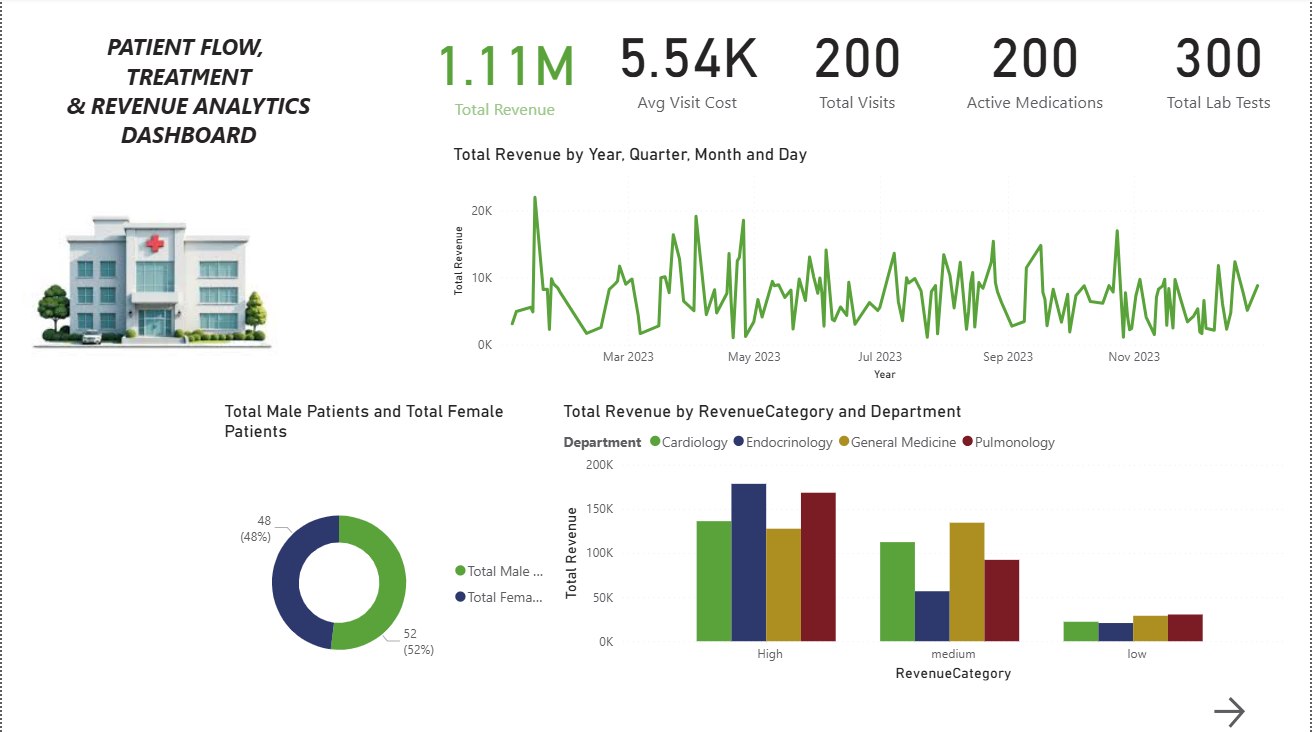

This screenshot's page, from the dashboard's own definition file:
{"tool":"powerbi","page":{"name":"Page 1","canvas":[1280,720],"ordinal":0},"visuals":[{"type":"card","fields":{"Values":["Patients.Total Patients"]},"box":[232.3,196.9,177.3,126],"z":0},{"type":"clusteredColumnChart","fields":{"Y":["Visits.Total Revenue"],"Category":["Visits.RevenueCategory"],"Series":["Visits.Department"]},"box":[564.9,434.1,715.4,278.8],"z":1000},{"type":"card","fields":{"Values":["Visits.Total Visits"]},"box":[655.4,0,204.2,127.2],"z":2000},{"type":"card","fields":{"Values":["Visits.Avg Visit Cost"]},"box":[435.3,1.2,216.4,127.2],"z":3000},{"type":"card","fields":{"Values":["LabResults.Total Lab Tests"]},"box":[1063.9,0,216.4,127.2],"z":4000},{"type":"card","fields":{"Values":["Medications.Active Medications"]},"box":[862.1,0,204.2,127.2],"z":5000},{"type":"donutChart","fields":{"Y":["Patients.Total Male Patients","Patients.Total Female Patients"]},"box":[212.8,395,331.4,317.9],"z":6000},{"type":"card","fields":{"Values":["Visits.Total Revenue"]},"box":[212.8,0,217.7,127.2],"z":7000},{"type":"lineChart","fields":{"Category":["Visits.VisitDate.Variation.Date Hierarchy.Year","Visits.VisitDate.Variation.Date Hierarchy.Quarter","Visits.VisitDate.Variation.Date Hierarchy.Month","Visits.VisitDate.Variation.Date Hierarchy.Day"],"Y":["Visits.Total Revenue"]},"box":[477.8,150,715.6,236.7],"z":8000},{"type":"image","box":[0,141.8,232.3,207.9],"z":9000},{"type":"textbox","box":[0,0,232.3,141.8],"z":10000}]}

Visuals, with their boxes in screenshot pixels (x1, y1, x2, y2), scaled from the page's 1280x720 canvas onto the 1313x732 screenshot:
card - Patients.Total Patients: crop(238, 200, 420, 328)
clusteredColumnChart - Visits.Total Revenue x Visits.RevenueCategory: crop(579, 441, 1312, 725)
card - Visits.Total Visits: crop(672, 0, 882, 129)
card - Visits.Avg Visit Cost: crop(447, 1, 669, 131)
card - LabResults.Total Lab Tests: crop(1091, 0, 1312, 129)
card - Medications.Active Medications: crop(884, 0, 1094, 129)
donutChart - Patients.Total Male Patients x Patients.Total Female Patients: crop(218, 402, 558, 725)
card - Visits.Total Revenue: crop(218, 0, 442, 129)
lineChart - Visits.VisitDate.Variation.Date Hierarchy.Year x Visits.VisitDate.Variation.Date Hierarchy.Quarter: crop(490, 152, 1224, 393)
image: crop(0, 144, 238, 356)
textbox: crop(0, 0, 238, 144)
